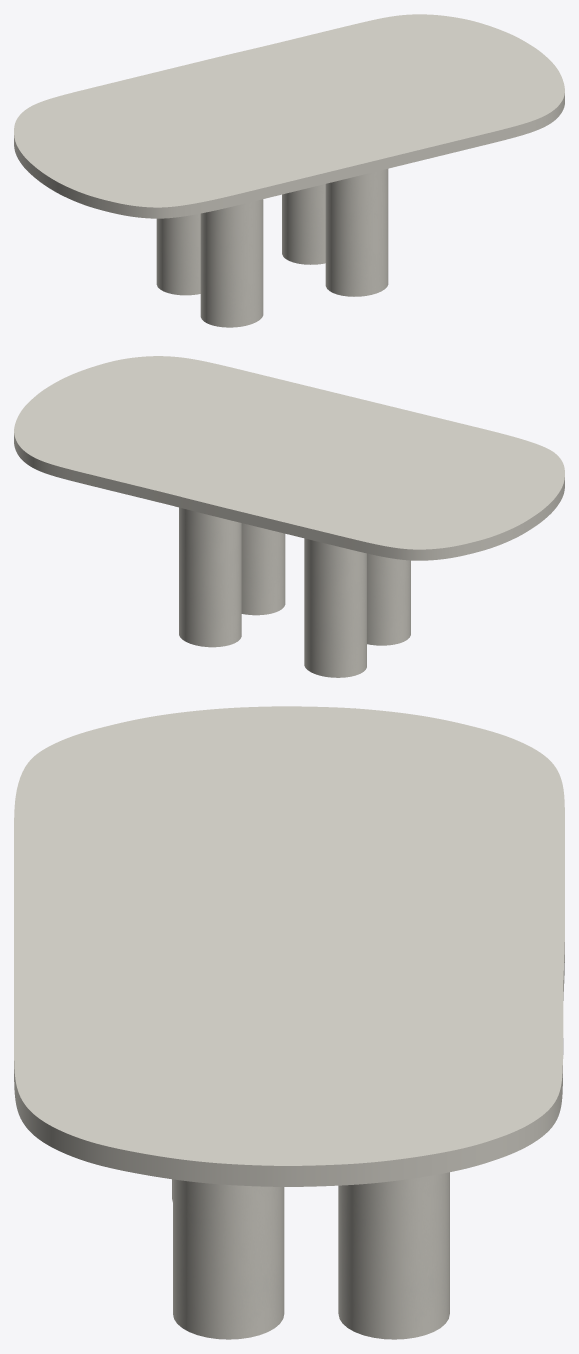
The model's file is pale_oval_standard_grove.glb.
3 renders of one model, top to bottom at view 1: azimuth 30°, elevation 25°; view 2: azimuth 150°, elevation 25°; view 3: azimuth 270°, elevation 25°, orthographic. The views are drawn at different scales.
Visible parts, largest first — view 1: standard_oval, grove; view 2: standard_oval, grove; view 3: standard_oval, grove.
Part boxes in pixels (<box>): standard_oval: <box>14,14,564,218</box>; grove: <box>156,169,388,327</box>; standard_oval: <box>14,356,564,560</box>; grove: <box>179,507,410,677</box>; standard_oval: <box>14,706,564,1186</box>; grove: <box>172,1172,449,1339</box>.
Bounding box in the file's own units: 7.5 × 2.51 × 3.8.
Materials: 1 (1 with a texture image).
